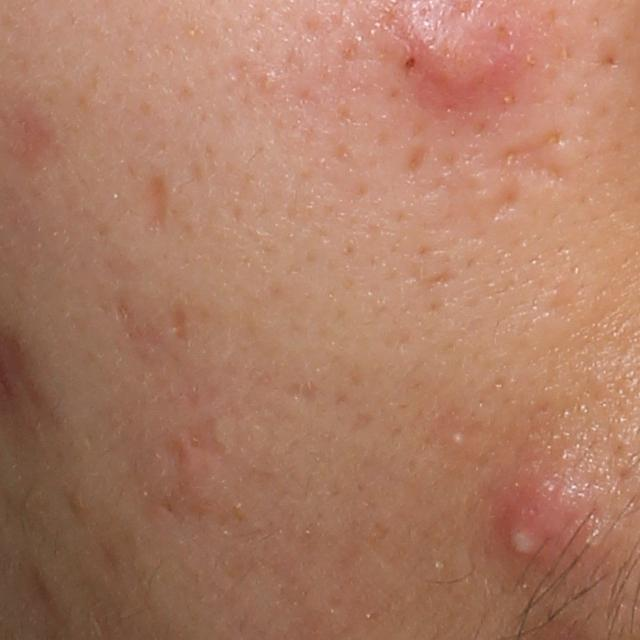atrophic_scar: (501, 126, 572, 181), (145, 168, 176, 233), (483, 182, 530, 223), (404, 140, 433, 185), (280, 380, 322, 405), (174, 298, 189, 349)
comedo: (257, 73, 281, 94)
papule: (395, 1, 517, 106)
pustule: (496, 473, 598, 588), (447, 428, 467, 449)
